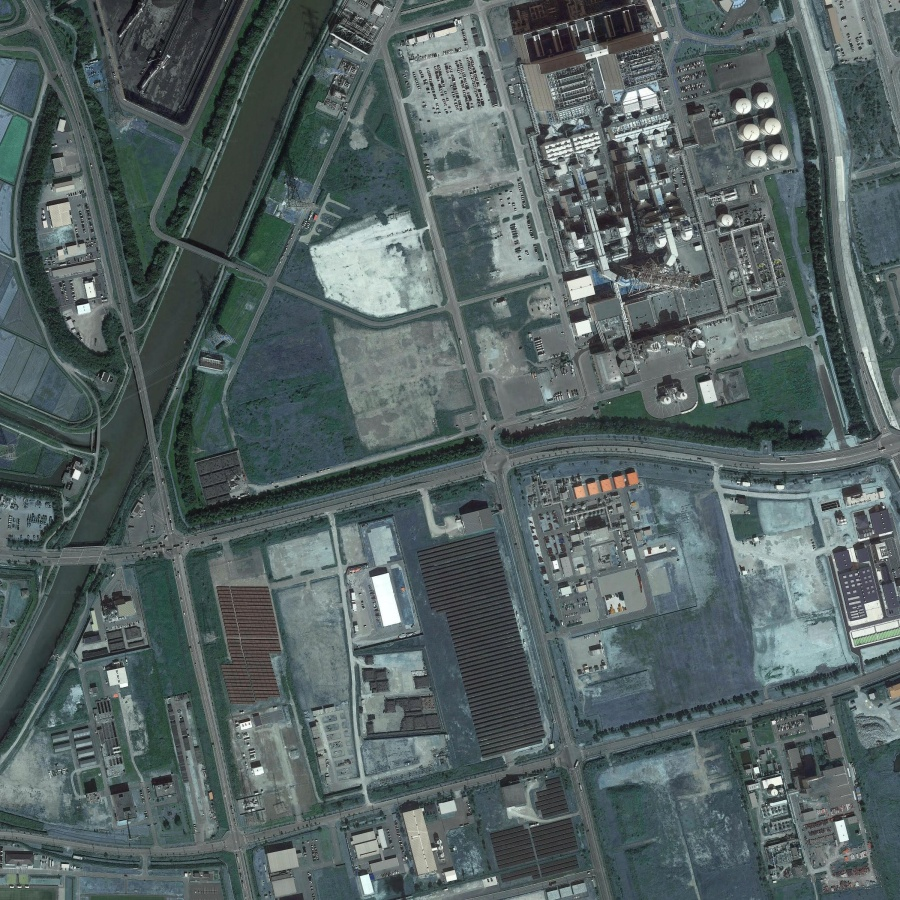PowerPlant: (520, 18, 800, 408)
